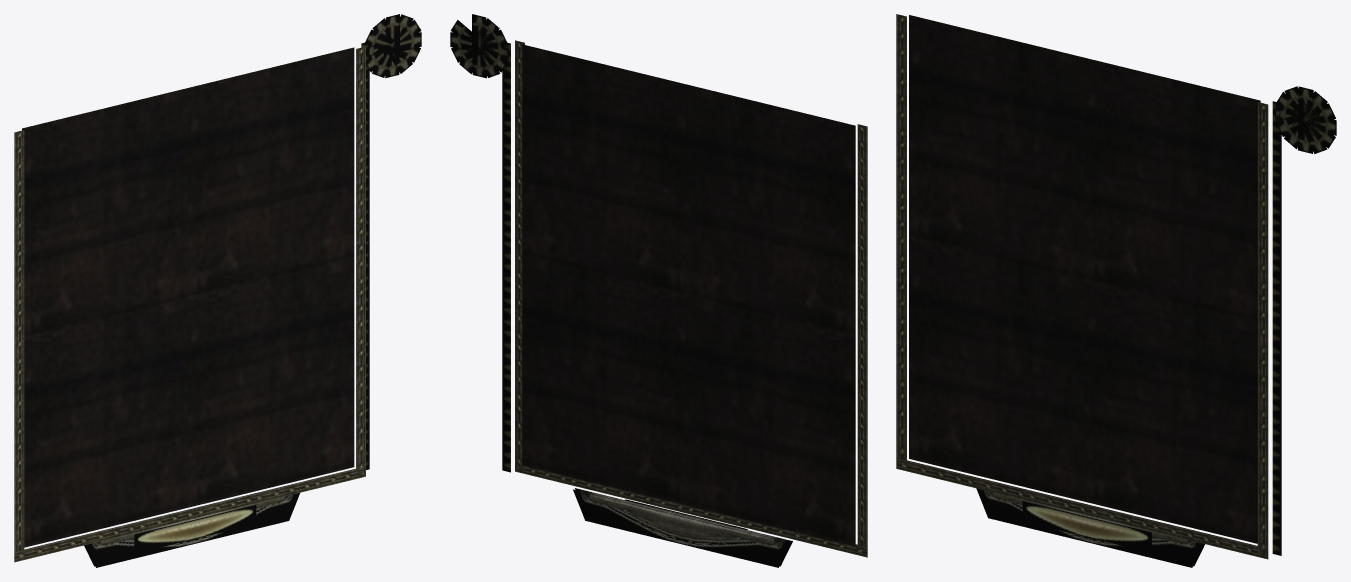
File: gui_map_window_drawer.fbx
The picture shows the model from 3 angles, left to right: view 1: azimuth 30°, elevation 25°; view 2: azimuth 150°, elevation 25°; view 3: azimuth 330°, elevation 25°; orthographic projection. The views are drawn at different scales.
Parts seen in each view (by area): view 1: drawer, drawer_button_normal, gear, drawer_button_over; view 2: drawer, gear, drawer_button_normal; view 3: drawer, drawer_button_normal, gear, drawer_button_over.
Boxes of the visible parts, x1=… form: drawer: x1=14, y1=42, x2=369, y2=566; drawer_button_normal: x1=85, y1=493, x2=299, y2=567; gear: x1=364, y1=14, x2=421, y2=78; drawer_button_over: x1=134, y1=505, x2=256, y2=553; drawer: x1=502, y1=40, x2=867, y2=567; gear: x1=450, y1=14, x2=508, y2=78; drawer_button_normal: x1=575, y1=488, x2=792, y2=566; drawer: x1=896, y1=14, x2=1281, y2=566; drawer_button_normal: x1=976, y1=488, x2=1203, y2=567; gear: x1=1275, y1=86, x2=1336, y2=153; drawer_button_over: x1=1022, y1=501, x2=1151, y2=552.
Bounding box in the file's own units: 280 × 310 × 5.39.
1 material, 1 textured.
